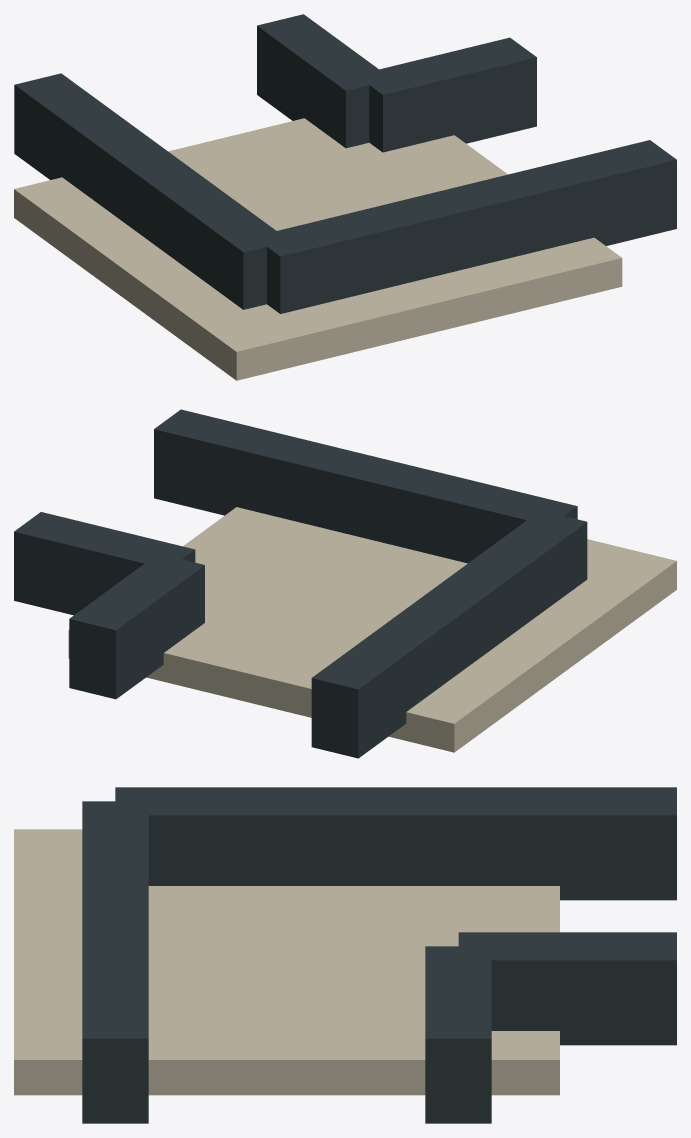
The model's file is rail-corner-lod0.fecf5f633016.glb.
3 renders of one model, top to bottom at view 1: azimuth 30°, elevation 25°; view 2: azimuth 150°, elevation 25°; view 3: azimuth 270°, elevation 25°, orthographic. The views are drawn at different scales.
Visible parts, largest first — view 1: body; view 2: body; view 3: body.
Part boxes in pixels (x1,y1,x2,y2): body: [14, 14, 676, 380]; body: [14, 409, 676, 758]; body: [14, 787, 676, 1123].
Bounding box in the file's own units: 0.85 × 0.15 × 0.85.
